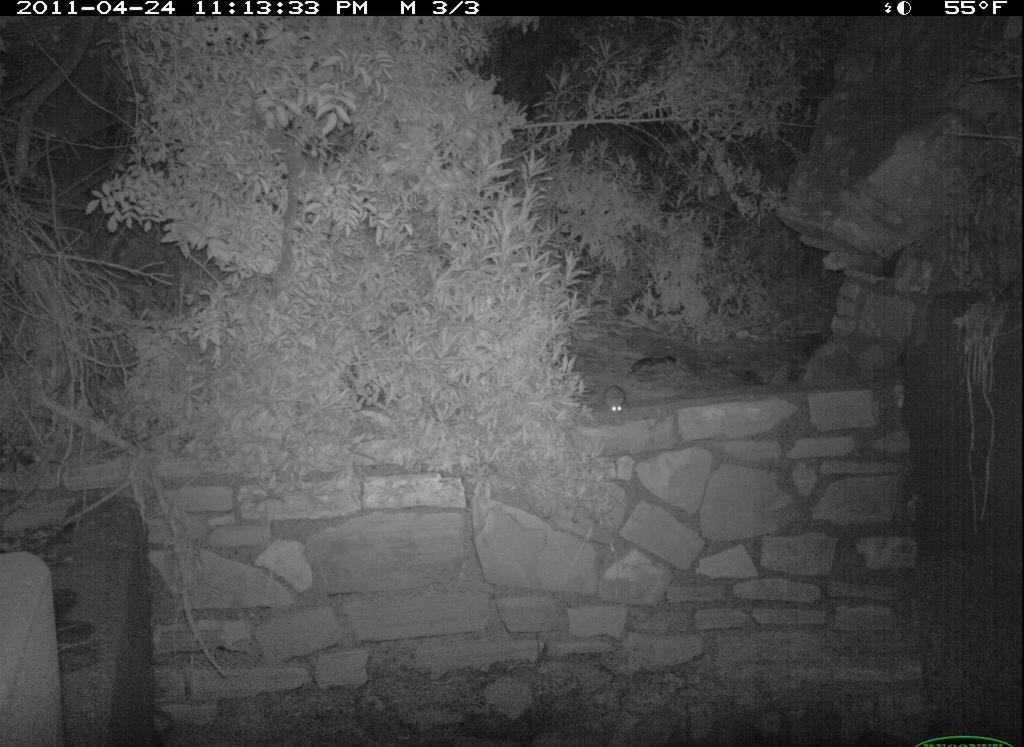rodent: (601, 379, 634, 424)
